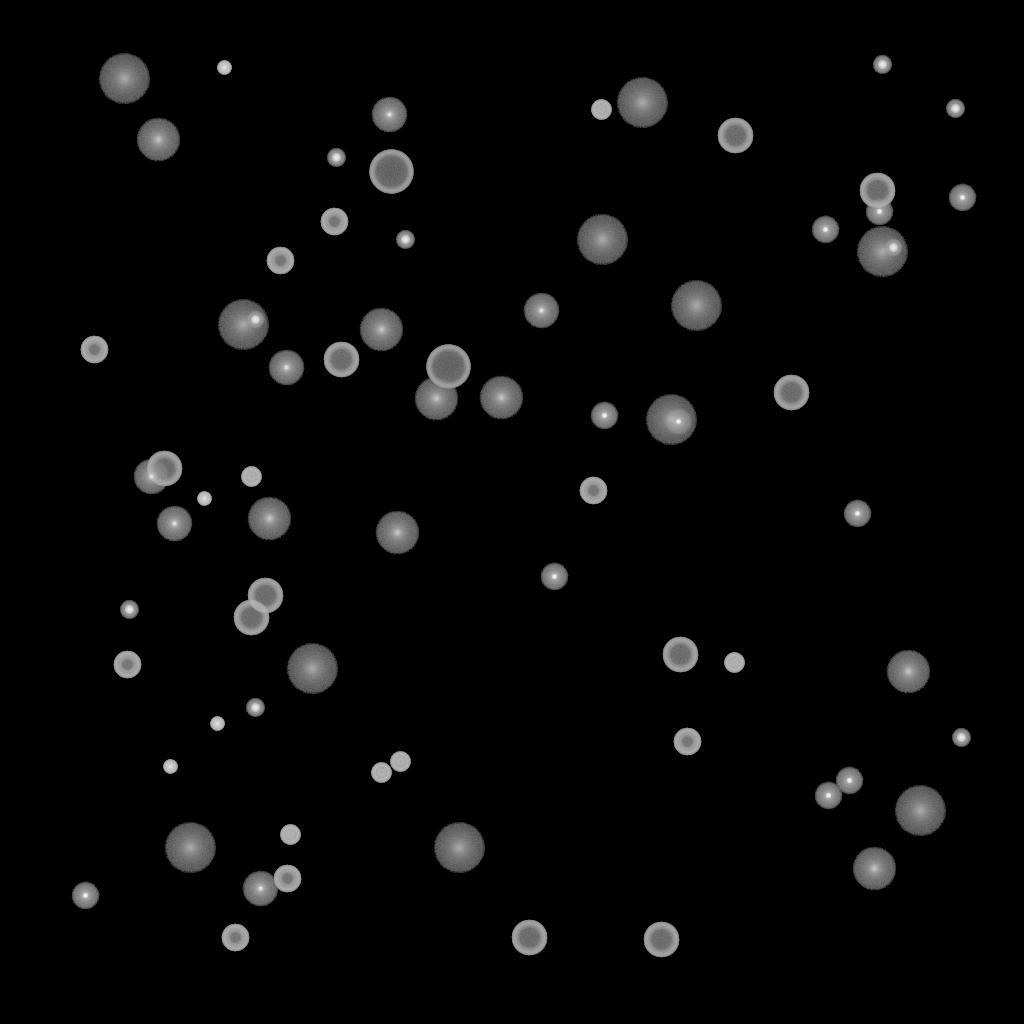depth:-10: (540, 563, 568, 591), (843, 500, 871, 528), (948, 184, 976, 212), (865, 198, 893, 226), (590, 402, 618, 430), (664, 408, 692, 436), (814, 782, 842, 810), (835, 767, 863, 795), (811, 216, 839, 244), (71, 882, 99, 910)
depth:-20: (120, 601, 138, 619), (246, 311, 264, 329), (246, 699, 264, 717), (396, 231, 414, 249), (884, 239, 902, 257), (952, 729, 970, 747), (873, 56, 891, 74), (327, 149, 345, 167), (946, 100, 964, 118)
depth:-30: (163, 760, 177, 774), (197, 492, 211, 506), (217, 61, 231, 75), (210, 717, 224, 731)
depth:-40: (591, 100, 611, 120), (390, 752, 410, 772), (724, 653, 744, 673), (241, 467, 261, 487), (280, 825, 300, 845), (371, 763, 391, 783)
depth:-50: (273, 865, 301, 893), (266, 247, 294, 275), (579, 477, 607, 505), (221, 924, 249, 952), (320, 208, 348, 236), (673, 728, 701, 756), (113, 651, 141, 679), (80, 336, 108, 364)
depth:-60: (859, 173, 895, 209), (643, 922, 679, 958), (662, 637, 698, 673), (511, 920, 547, 956), (233, 600, 269, 636), (146, 451, 182, 487), (323, 342, 359, 378), (773, 375, 809, 411), (717, 118, 753, 154), (247, 578, 283, 614)
depth:-70: (426, 345, 470, 389), (369, 150, 413, 194)
depth:0: (242, 871, 278, 907), (156, 506, 192, 542), (268, 350, 304, 386), (133, 459, 169, 495), (371, 97, 407, 133), (523, 293, 559, 329)
depth:10: (359, 308, 403, 352), (375, 511, 419, 555), (414, 377, 458, 421), (886, 650, 930, 694), (852, 847, 896, 891), (136, 118, 180, 162), (247, 497, 291, 541), (479, 376, 523, 420)
depth:20: (286, 644, 338, 694), (856, 227, 908, 277), (217, 300, 269, 350), (894, 786, 946, 836), (164, 823, 216, 873), (433, 823, 485, 873), (98, 54, 150, 104), (576, 215, 628, 265), (645, 395, 697, 445), (616, 78, 668, 128), (670, 281, 722, 331)
